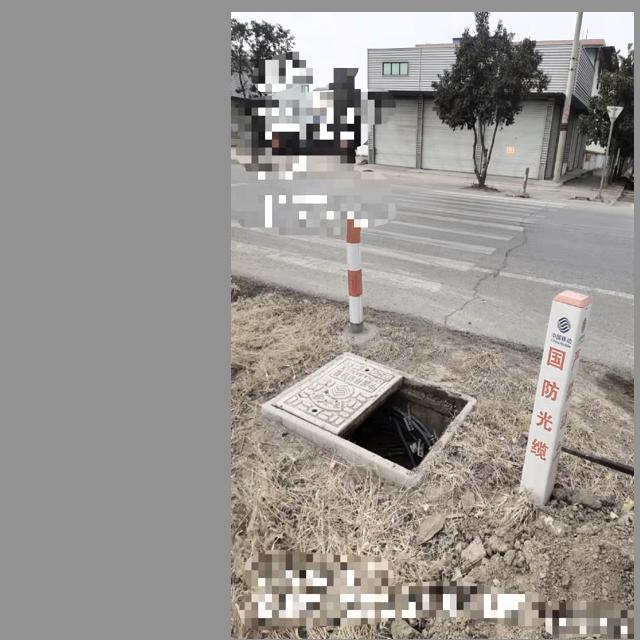lose: (257, 345, 486, 502)
